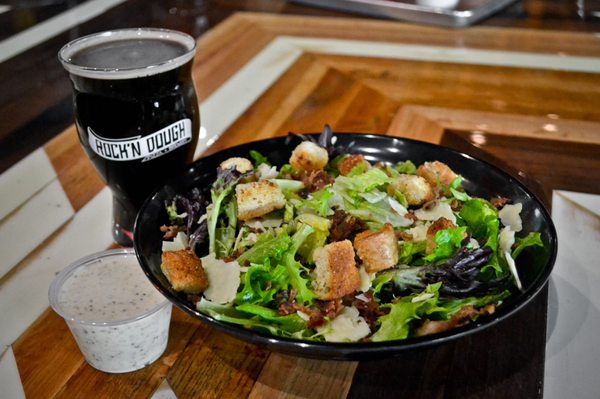sushi: (129, 130, 538, 358), (48, 248, 173, 375)
